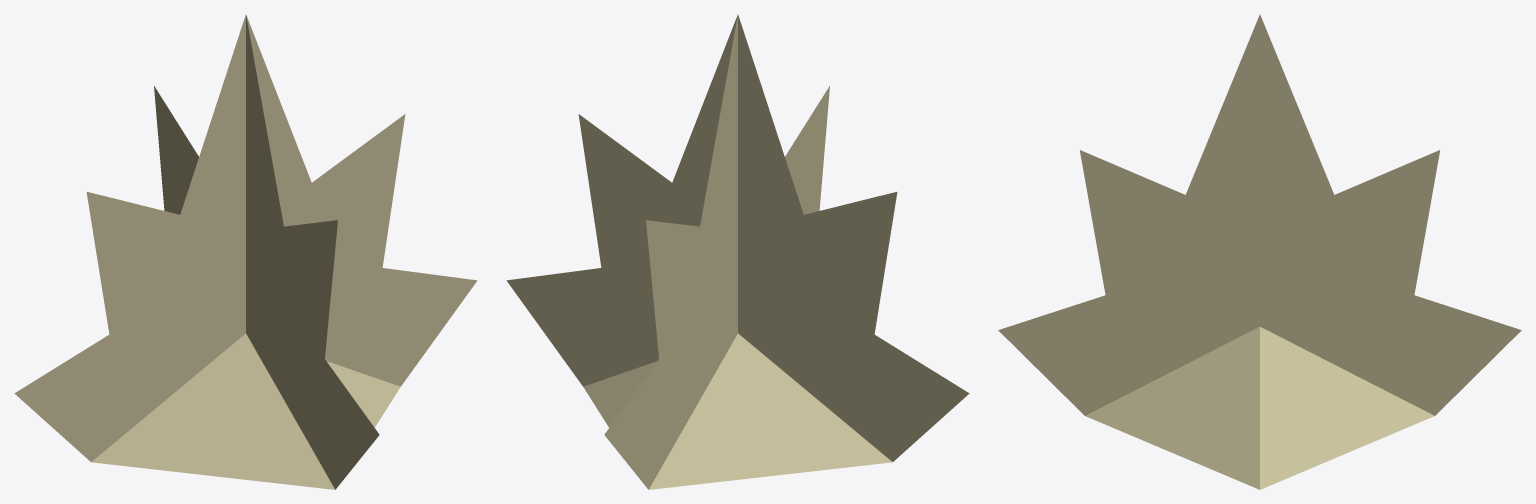
The model's file is dry_a.glb.
The picture shows the model from 3 angles, left to right: view 1: azimuth 30°, elevation 25°; view 2: azimuth 150°, elevation 25°; view 3: azimuth 270°, elevation 25°; orthographic projection. The views are drawn at different scales.
Parts seen in each view (by area): view 1: dry_a; view 2: dry_a; view 3: dry_a.
Part boxes in pixels (x1=…): dry_a: x1=14, y1=14, x2=477, y2=489; dry_a: x1=506, y1=14, x2=969, y2=489; dry_a: x1=998, y1=14, x2=1521, y2=489.
Size of the model in its own units: 12 by 10.16 by 12.
